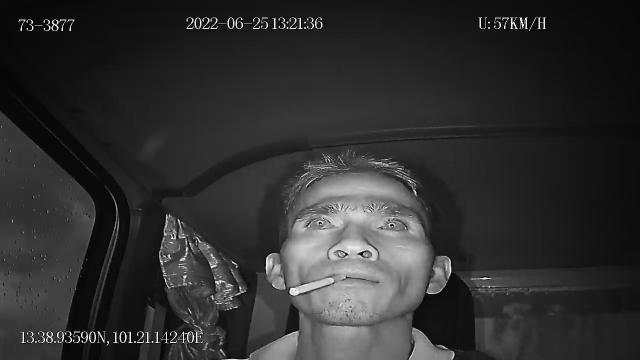SafeDriving: (369, 210, 413, 237), (297, 210, 338, 234)
Smoking: (289, 276, 347, 294)
